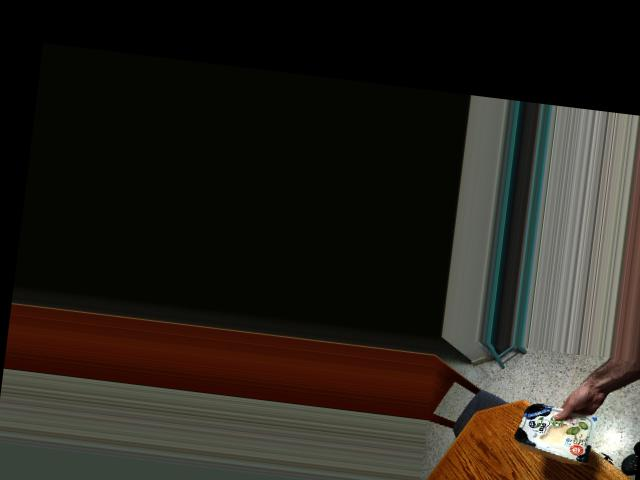cheese: (511, 397, 603, 456)
